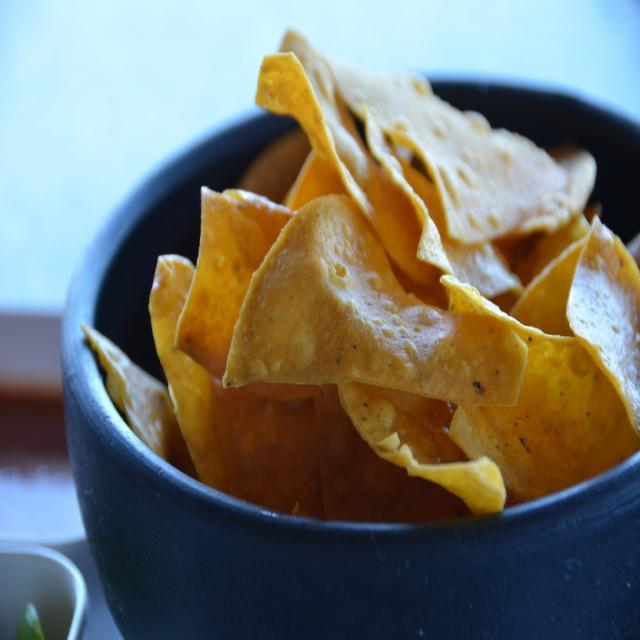Chips packaged: (94, 16, 634, 530), (233, 184, 528, 424), (338, 59, 600, 260)
